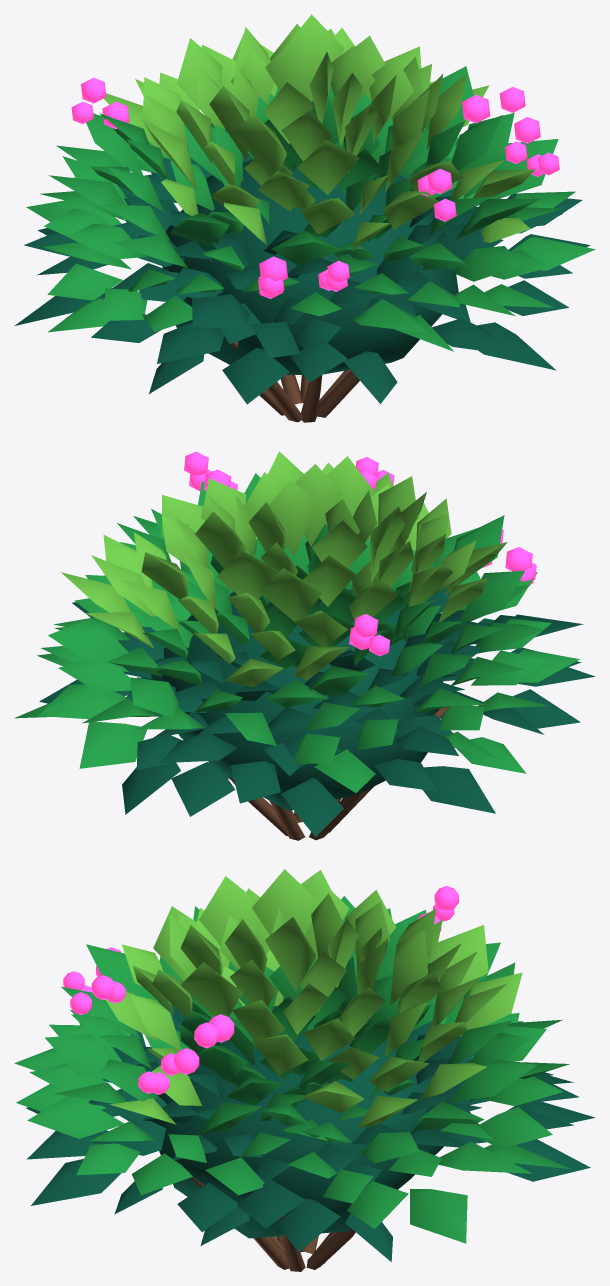
Rendered from bush_lush_a.glb.
The picture shows the model from 3 angles, top to bottom: view 1: azimuth 30°, elevation 25°; view 2: azimuth 150°, elevation 25°; view 3: azimuth 270°, elevation 25°; orthographic projection. The views are drawn at different scales.
Parts seen in each view (by area): view 1: bush_lush_a_mesh; view 2: bush_lush_a_mesh; view 3: bush_lush_a_mesh.
Boxes of the visible parts, <box> form: bush_lush_a_mesh: <box>14,14,595,422</box>; bush_lush_a_mesh: <box>14,451,595,840</box>; bush_lush_a_mesh: <box>14,869,595,1271</box>.
Size of the model in its own units: 1.89 by 1.28 by 1.9.
